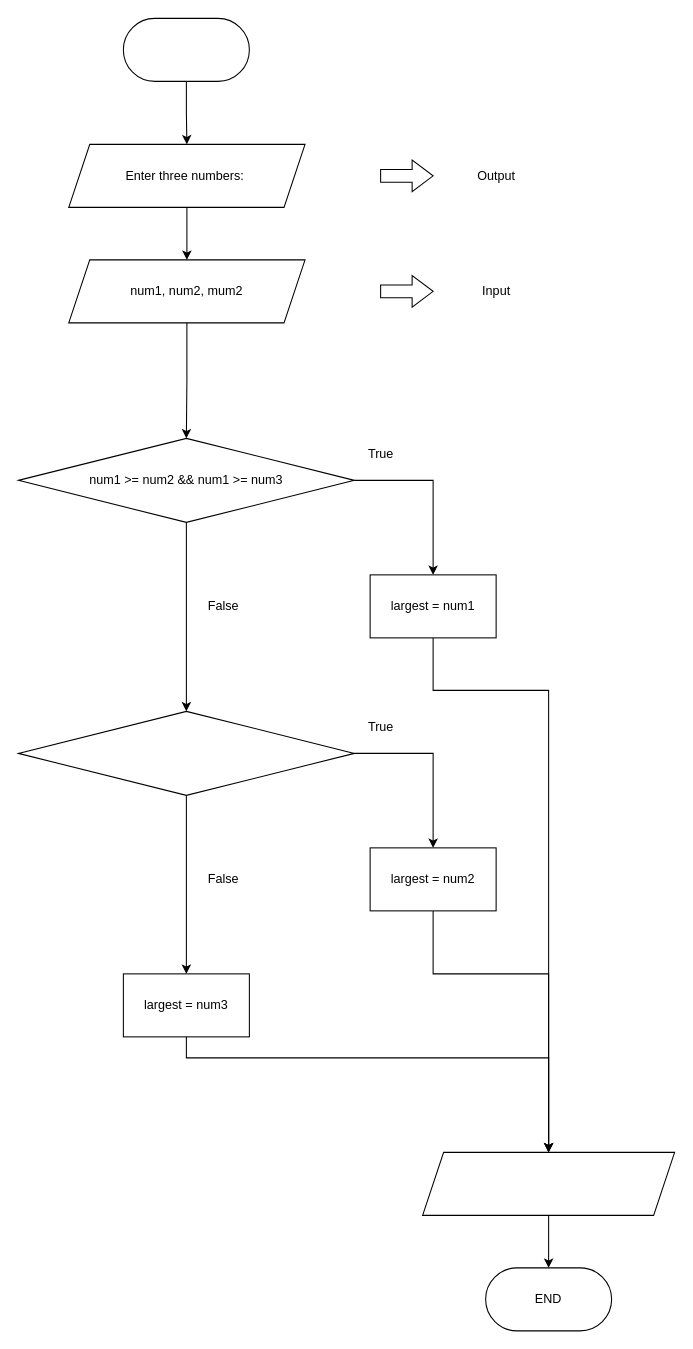
Some shapes in this 693 by 1349 pixel diagram are drawn without their labels. Each missing label, with the centre of its shape:
Main: (x=185, y=49)
num2 >= num1 && num2 >= num3: (x=185, y=752)
The largest number is `largest`: (x=548, y=1183)
